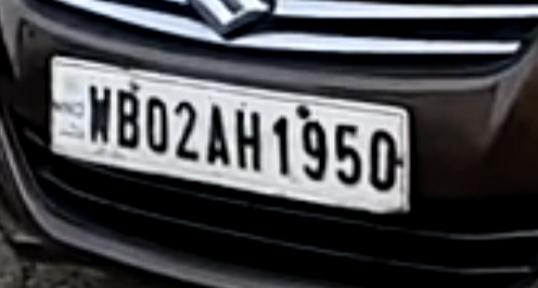0: (366, 131, 403, 201), (143, 89, 174, 156)
1: (268, 111, 295, 181)
2: (171, 94, 202, 167)
5: (331, 118, 365, 189)
9: (300, 113, 331, 183)
A: (203, 99, 231, 169)
B: (114, 81, 140, 150)
H: (231, 104, 266, 178)
W: (81, 79, 112, 146)
